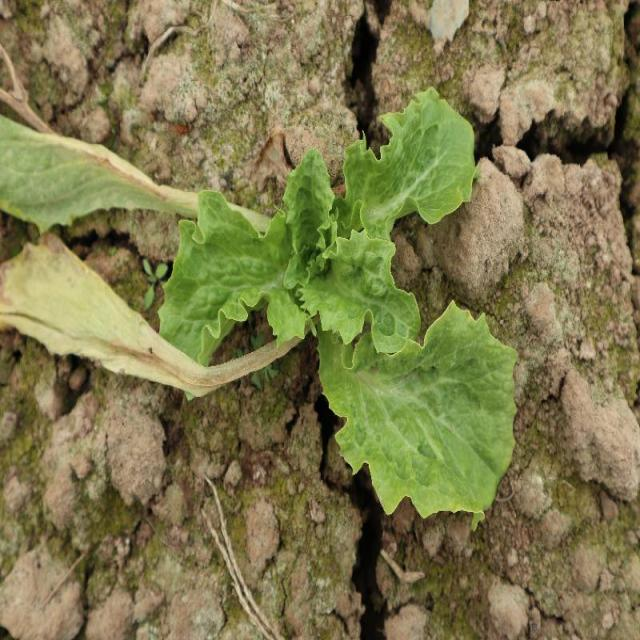crop: (159, 87, 515, 516)
